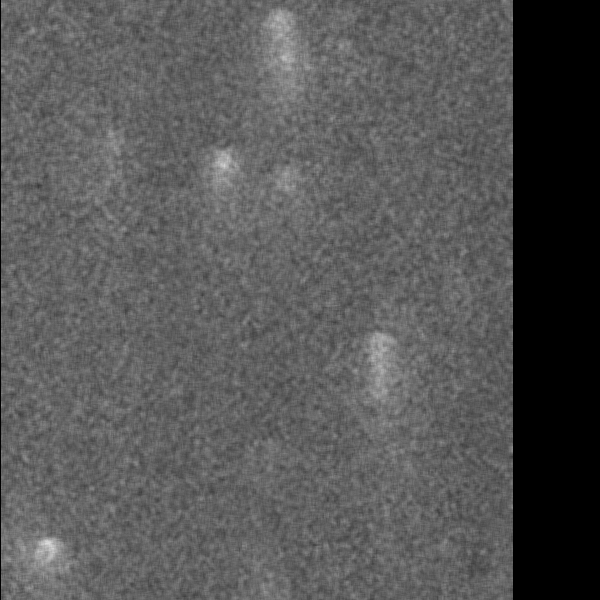spark: (372, 324, 392, 463), (205, 141, 238, 218), (24, 533, 62, 582), (276, 162, 295, 219)
